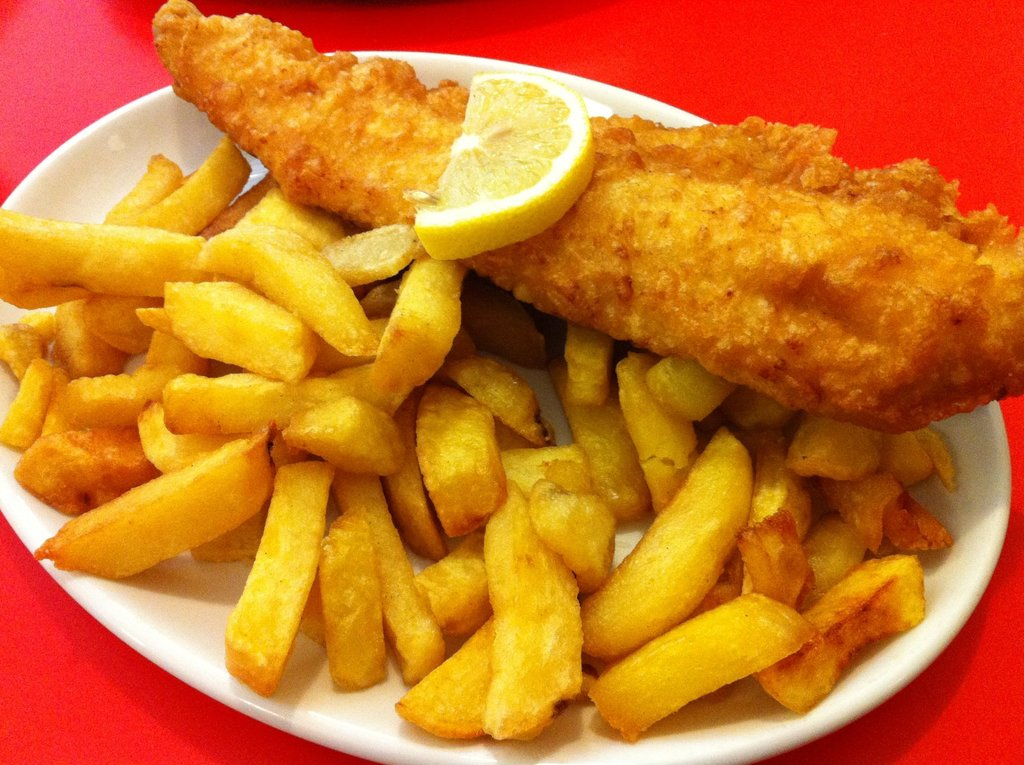French fries: (35, 51, 922, 747)
